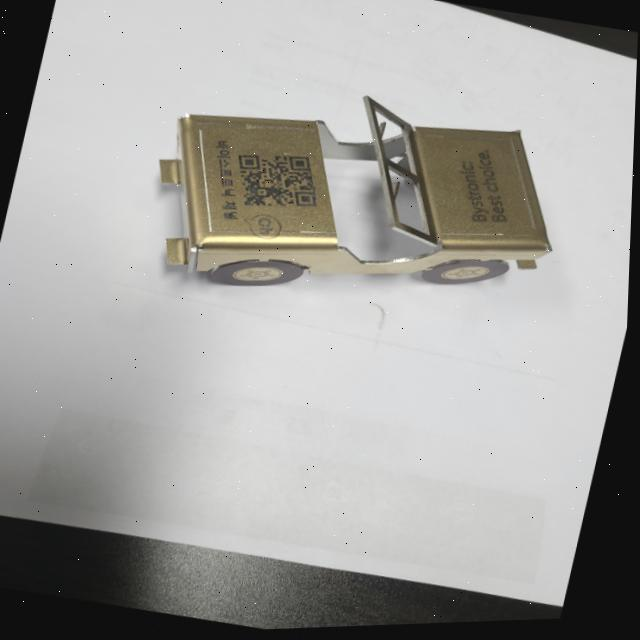tire: (211, 251, 310, 300), (423, 250, 515, 302)
